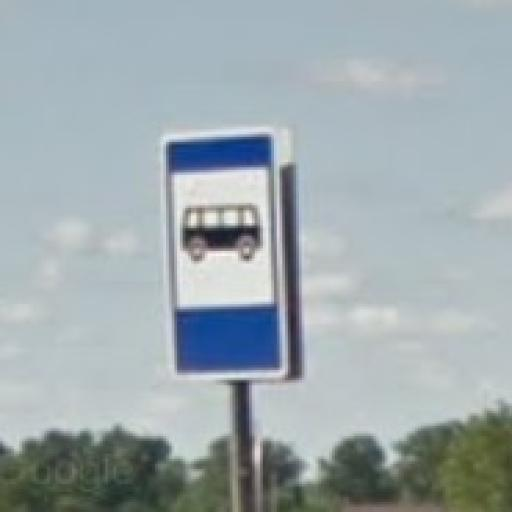traffic_sign: (159, 130, 289, 384)
